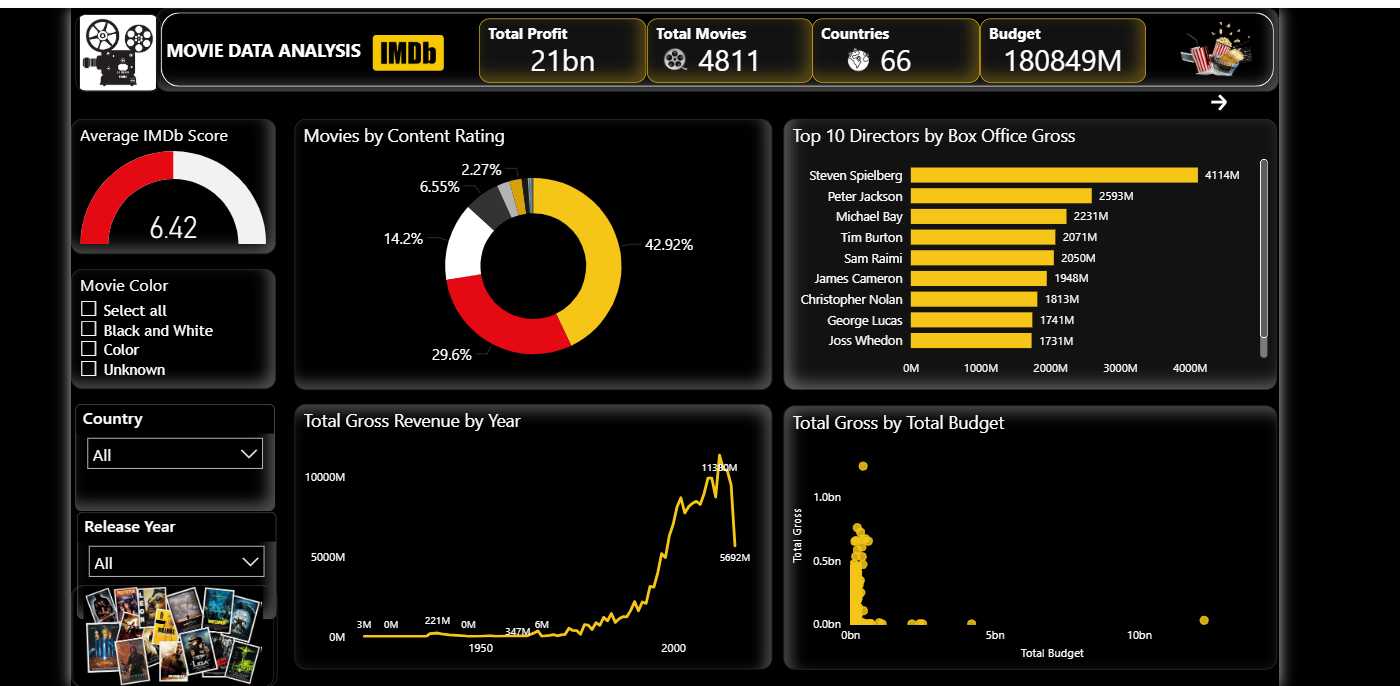

What the dashboard file says about the page in this screenshot:
{"tool":"powerbi","page":{"name":"Page 1","canvas":[1280,720],"ordinal":0},"visuals":[{"type":"shape","box":[90.3,0,1190.3,88.9],"z":0},{"type":"image","box":[313.4,28.6,89.1,38.2],"z":1000},{"type":"image","box":[4.7,6.2,90.6,82.8],"z":2000},{"type":"card","title":"Total Profit","fields":{"Values":["movie_metadata.Total Profit"]},"box":[432.8,11.3,177.6,68],"z":3000},{"type":"card","title":"Total Movies","fields":{"Values":["movie_metadata.Total Movies"]},"box":[610.3,11.3,175.7,68],"z":4000},{"type":"card","title":"Countries","fields":{"Values":["movie_metadata.Total Countries"]},"box":[786,11.3,177.7,68],"z":5000},{"type":"image","box":[602.8,37.8,75.6,41.6],"z":6000},{"type":"card","title":"Budget","fields":{"Values":["movie_metadata.Total Budget"]},"box":[963.7,11.3,175.7,68],"z":7000},{"type":"donutChart","title":"Movies by Content Rating","fields":{"Y":["CountNonNull(movie_metadata.Movie Title)"],"Category":["movie_metadata.Content Rating"]},"box":[236.2,117.2,506.5,287.2],"z":8000},{"type":"gauge","fields":{"Y":["movie_metadata.Average IMDb Score"]},"box":[0,117.5,217.1,143.4],"z":9000},{"type":"lineChart","title":"Total Gross Revenue by Year","fields":{"Category":["movie_metadata.Title Year"],"Y":["movie_metadata.Total Gross"]},"box":[236.2,419.5,506.5,281.6],"z":10000},{"type":"listSlicer","title":"Movie Color","fields":{"Values":["movie_metadata.Color"]},"box":[0,276.9,217.1,127.5],"z":12000},{"type":"image","box":[806,41,57,35.3],"z":13000},{"type":"clusteredBarChart","title":"Top 10 Directors by Box Office Gross","fields":{"Category":["movie_metadata.Director Name"],"Y":["movie_metadata.Total Gross"]},"box":[755.9,117.2,523.5,287.2],"z":14000},{"type":"scatterChart","title":"Total Gross by Total Budget","fields":{"Category":["movie_metadata.Movie Title"],"X":["movie_metadata.Total Budget"],"Y":["movie_metadata.Total Gross"]},"box":[755.9,421.4,523.5,279.7],"z":15000},{"type":"slicer","title":"Country","fields":{"Values":["movie_metadata.Country"]},"box":[4,420.3,211.1,113.5],"z":16000},{"type":"slicer","title":"Release Year","fields":{"Values":["movie_metadata.Title Year"]},"box":[6,533.8,211.1,113.5],"z":17000},{"type":"image","box":[1,612.5,217.3,107.7],"z":18000},{"type":"actionButton","box":[1196.2,79.4,83.2,41.6],"z":19000},{"type":"image","box":[0,612.3,215.4,107.7],"z":20000},{"type":"image","box":[1153.1,6.2,125.9,82.7],"z":21000}]}

Visuals, with their boxes on the page's 1280x720 design canvas (x1, y1, x2, y2). These are canvas units, not pixel positions in the 1400x686 screenshot, which may show the page scaled, cropped or inside an application window:
shape: rect(90, 0, 1281, 89)
image: rect(313, 29, 402, 67)
image: rect(5, 6, 95, 89)
"Total Profit" card: rect(433, 11, 610, 79)
"Total Movies" card: rect(610, 11, 786, 79)
"Countries" card: rect(786, 11, 964, 79)
image: rect(603, 38, 678, 79)
"Budget" card: rect(964, 11, 1139, 79)
"Movies by Content Rating" donutChart: rect(236, 117, 743, 404)
gauge - movie_metadata.Average IMDb Score: rect(0, 118, 217, 261)
"Total Gross Revenue by Year" lineChart: rect(236, 420, 743, 701)
"Movie Color" listSlicer: rect(0, 277, 217, 404)
image: rect(806, 41, 863, 76)
"Top 10 Directors by Box Office Gross" clusteredBarChart: rect(756, 117, 1279, 404)
"Total Gross by Total Budget" scatterChart: rect(756, 421, 1279, 701)
"Country" slicer: rect(4, 420, 215, 534)
"Release Year" slicer: rect(6, 534, 217, 647)
image: rect(1, 612, 218, 720)
actionButton: rect(1196, 79, 1279, 121)
image: rect(0, 612, 215, 720)
image: rect(1153, 6, 1279, 89)
